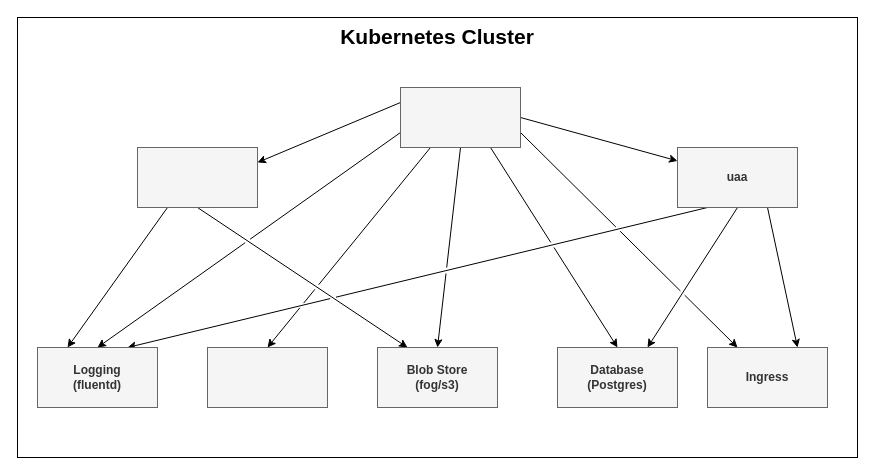
Some shapes in this 875 by 475 pixel diagram are drawn without their labels. The shapes that lost their labels are listed below. From the top down, each one's centre as x and y in pixels, then its label:
At (x=460, y=117): "capi".
At (x=197, y=177): "eirini".
At (x=267, y=377): "MessageBroker (nats)".
